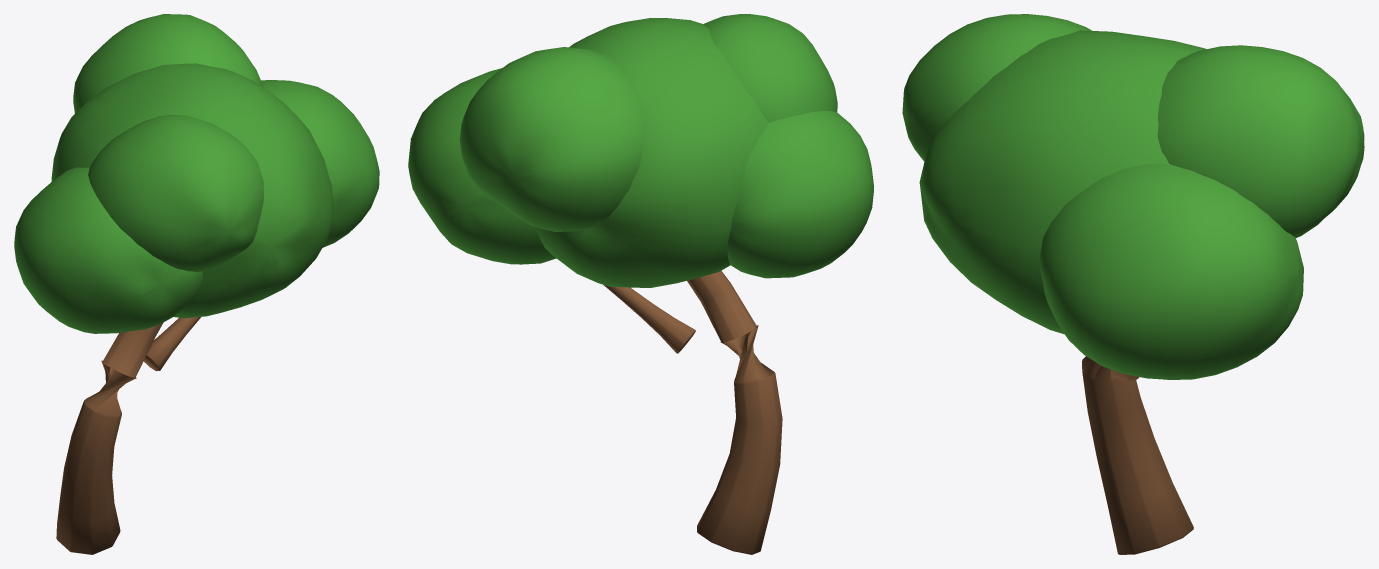
File: tree_c.glb
The picture shows the model from 3 angles, left to right: view 1: azimuth 30°, elevation 25°; view 2: azimuth 150°, elevation 25°; view 3: azimuth 270°, elevation 25°; orthographic projection. The views are drawn at different scales.
Parts seen in each view (by area): view 1: Tree_C_Crown, Tree_C_Trunk; view 2: Tree_C_Crown, Tree_C_Trunk; view 3: Tree_C_Crown, Tree_C_Trunk.
Part boxes in pixels (left/top/right/bottom): Tree_C_Crown: left=14, top=14, right=379, bottom=333; Tree_C_Trunk: left=56, top=317, right=200, bottom=554; Tree_C_Crown: left=408, top=14, right=873, bottom=287; Tree_C_Trunk: left=603, top=270, right=782, bottom=554; Tree_C_Crown: left=902, top=14, right=1364, bottom=379; Tree_C_Trunk: left=1082, top=356, right=1193, bottom=554.
Bounding box in the file's own units: 3.78 × 4.45 × 3.24.
